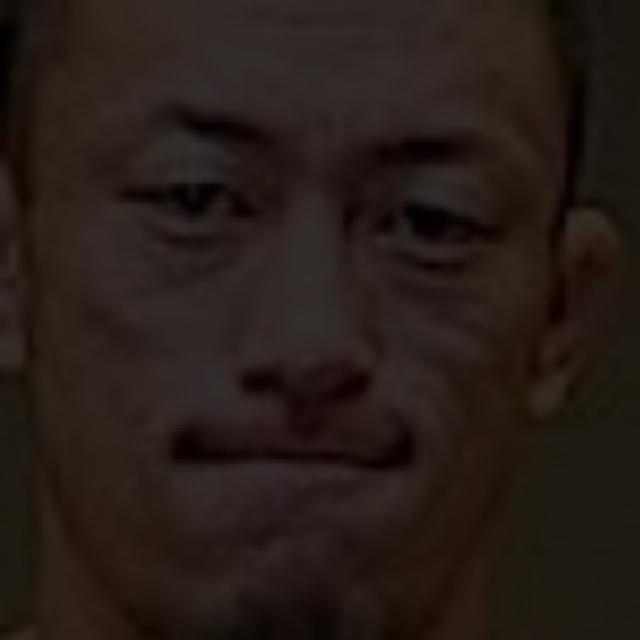Angry: (72, 50, 603, 572)
